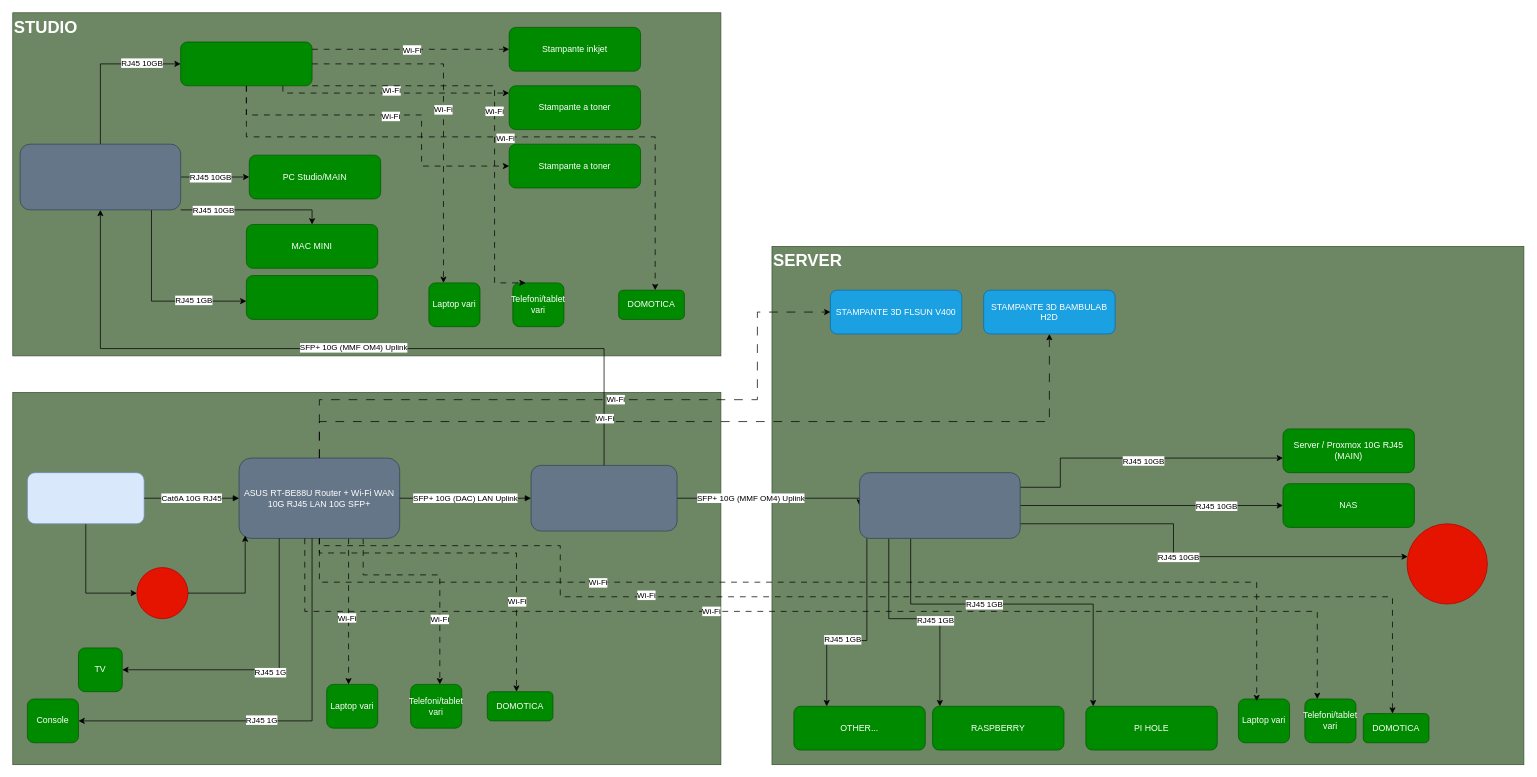
The diagram is 1537 pixels wide and 777 high, and some of its shapes have lost their labels. The shapes that lost their labels are listed below. From the top down, each one's box as (x1, y1, x2, y2) in pixels, then its label:
(180, 41, 312, 86): AP ASUS (Mansarda) AiMesh / SSID MAIN+GUEST
(19, 143, 181, 210): Zyxel XGS1250‑12 (Studio) SFP+ uplink
(246, 275, 378, 319): VARIE
(27, 472, 144, 524): ONT 10G RJ45 (WAN)
(530, 465, 677, 531): MikroTik CRS305 Core 10G (4× SFP+)
(859, 472, 1020, 538): Zyxel XGS1250‑12 (Mansarda) SFP+ uplink
(12, 392, 721, 765): SALOTTO
(1406, 523, 1487, 604): ESTENSIONI FUTURE DELLA RETE
(136, 567, 188, 619): FUTURO FIREWALL
